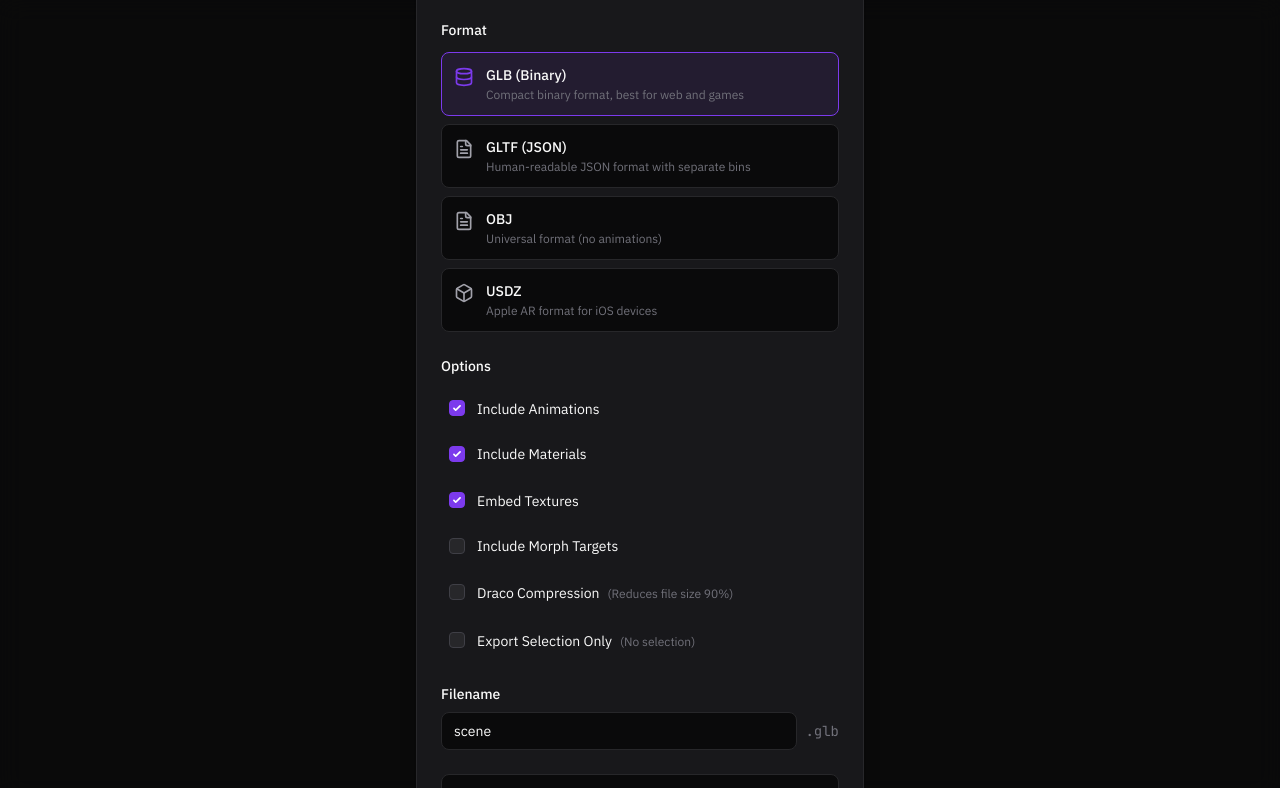
Test case: ExportDialog › Filename Input › should show correct file extension
Expected: the text ".glb" is shown, [805, 721, 839, 741]
Note: Change format
Click the button "GLTF (JSON)".
click(640, 156)  # box [441, 124, 839, 188]
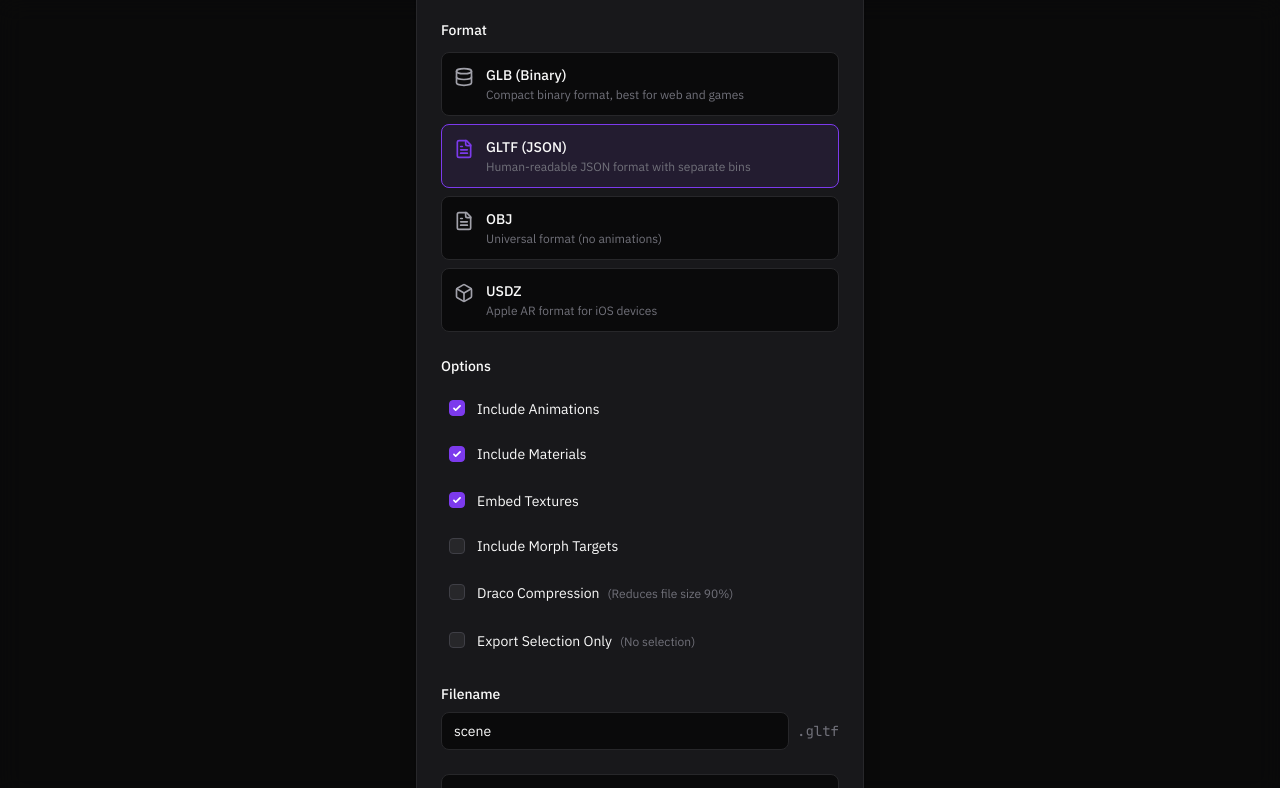
Expected: the text ".gltf" is shown, [797, 721, 839, 741]
